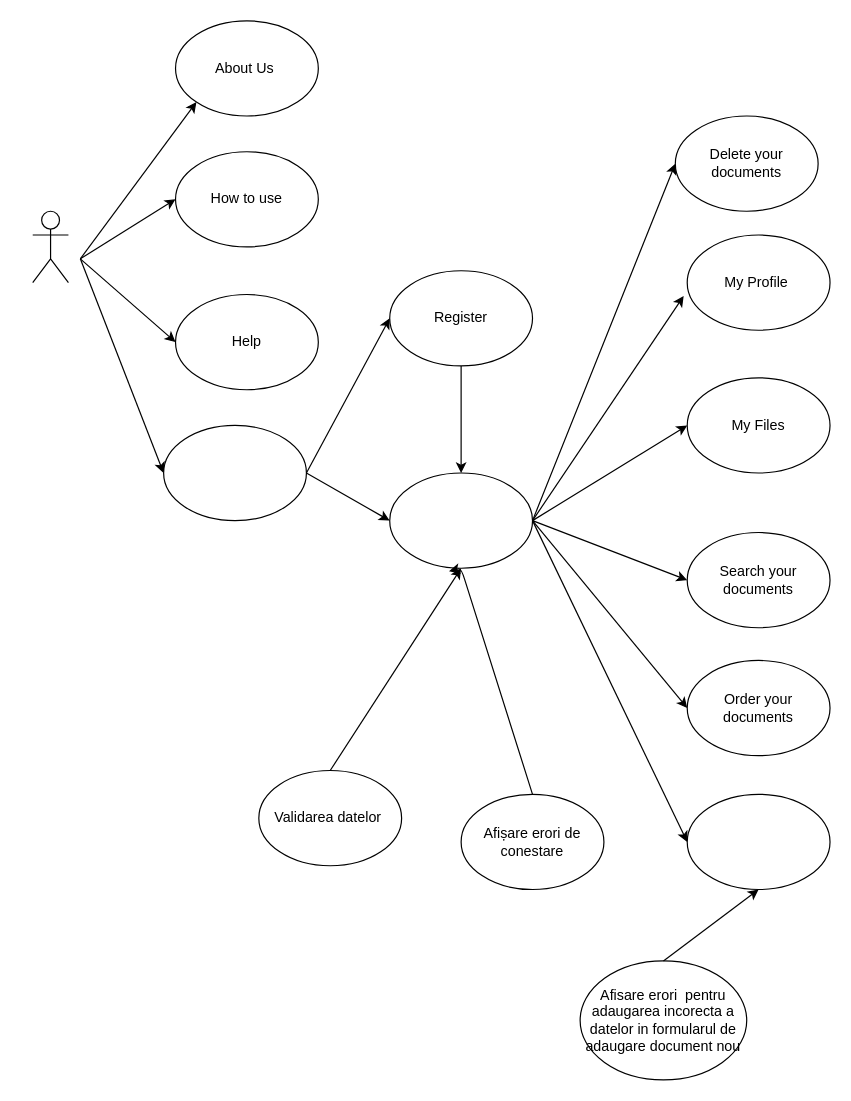
The diagram is 851 pixels wide and 1101 high, and some of its shapes have lost their labels. Here are the shapes that lost their labels. From the top down, the box of each, then its label:
(32, 210, 68, 283): Utilizator
(162, 424, 306, 521): Access FOU
(389, 472, 533, 568): Login
(686, 793, 830, 890): New Document
